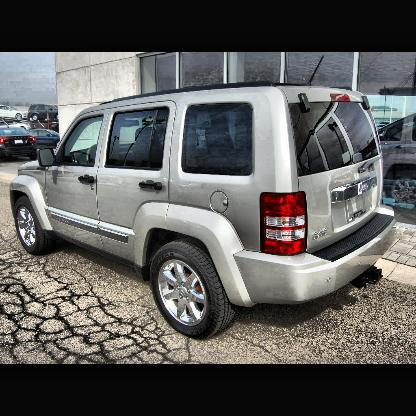Jeep Liberty SUV 2012: (11, 79, 400, 341)
